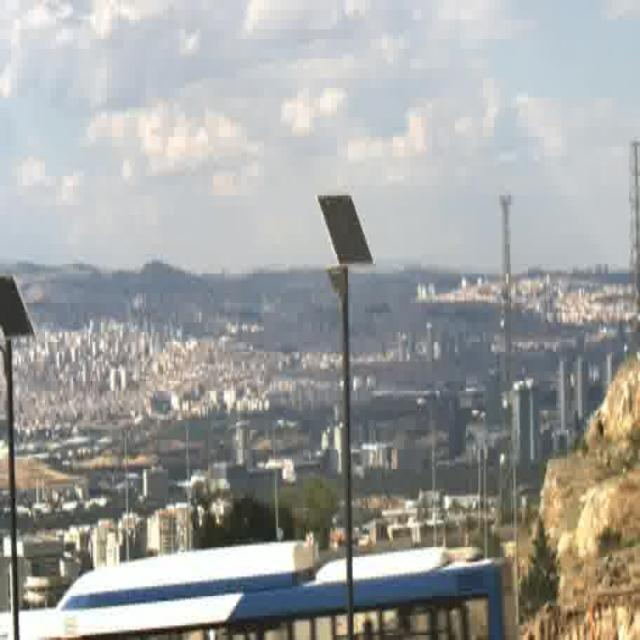Bus: (0, 538, 514, 640)
